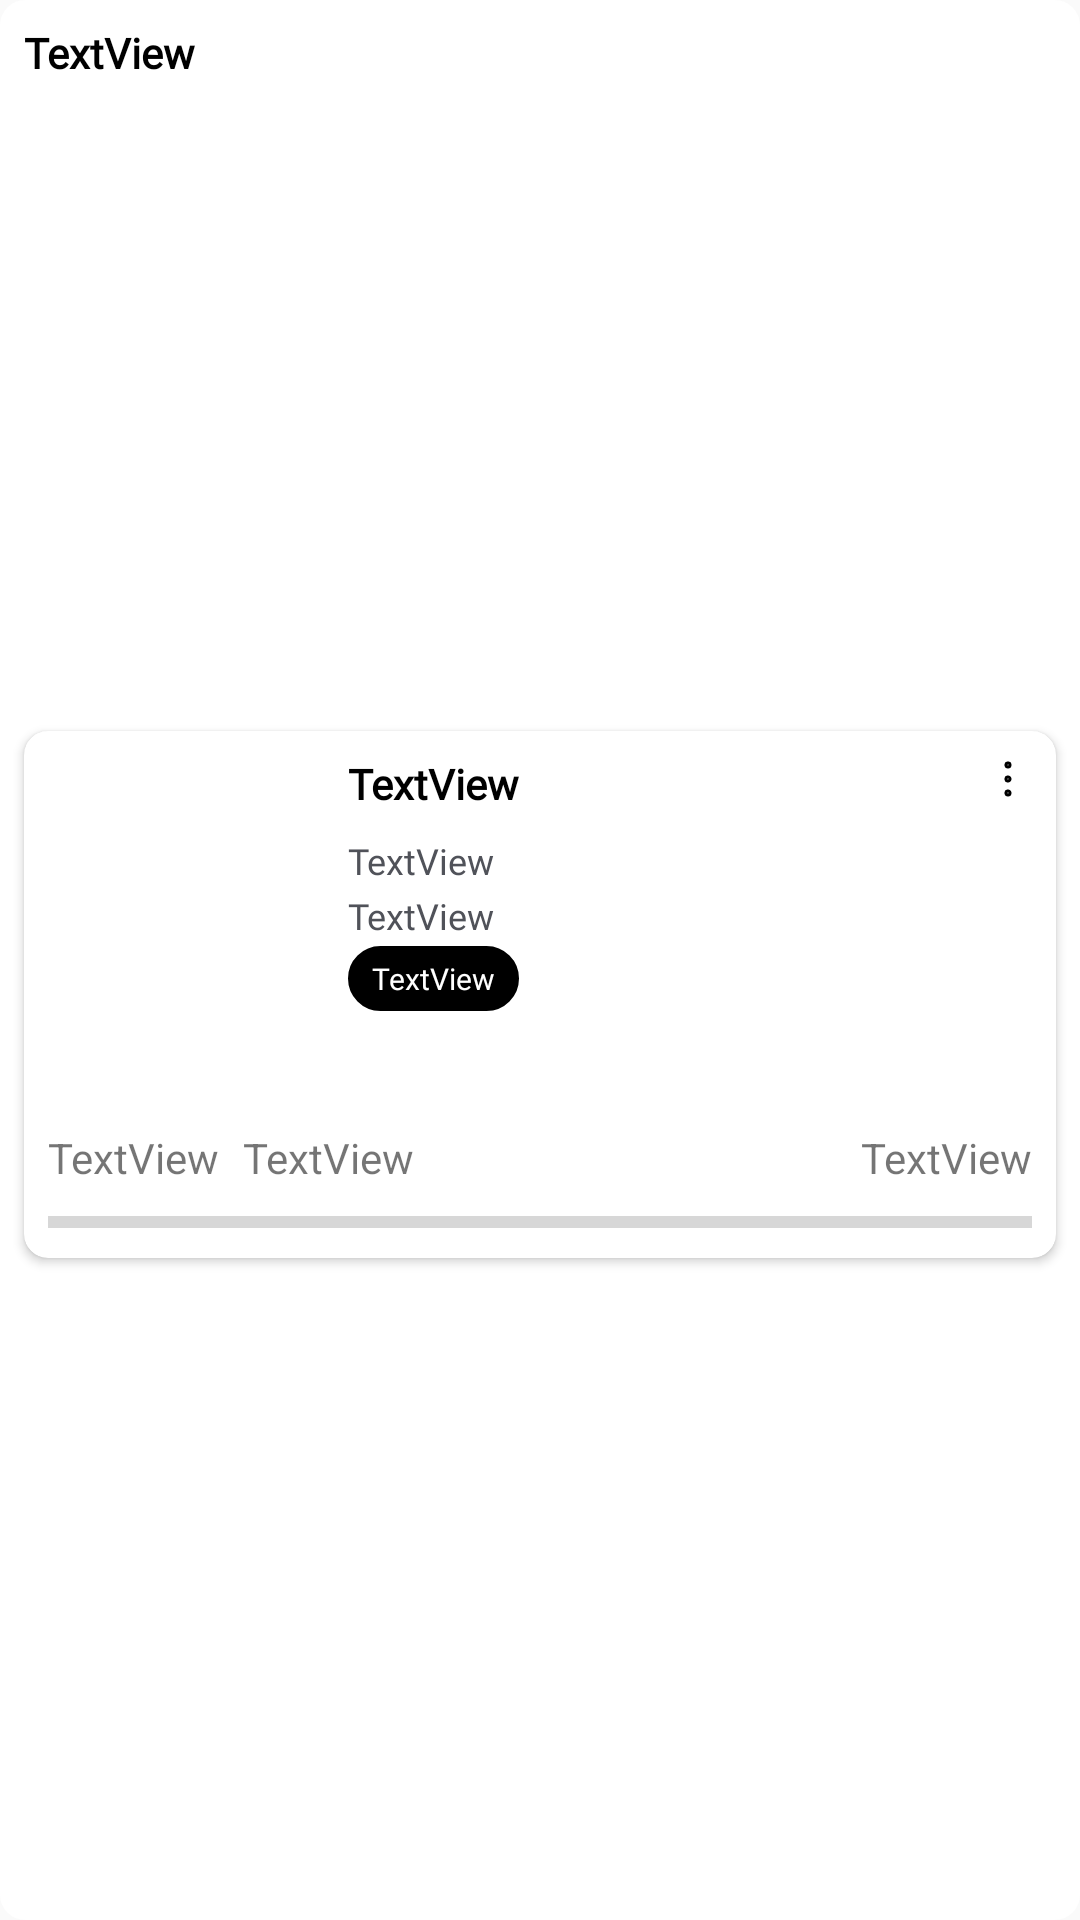

Icons on this 1080 x 1920 Android screen, each with the point to tap as (x=x, y=y):
more vertical: (x=1008, y=779)
